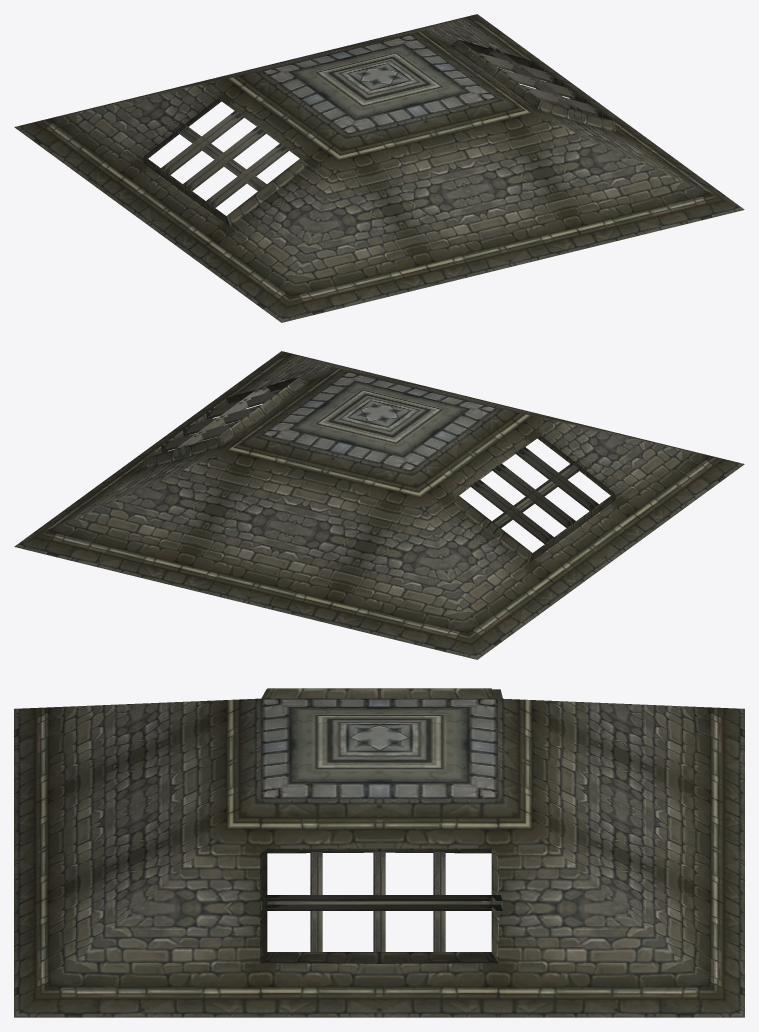
3 views of the same model, one above another, from view 1: azimuth 30°, elevation 25°; view 2: azimuth 150°, elevation 25°; view 3: azimuth 270°, elevation 25° (orthographic). The views are drawn at different scales.
Parts seen in each view (by area): view 1: DN_1_4_dt01c_a1; view 2: DN_1_4_dt01c_a1; view 3: DN_1_4_dt01c_a1.
Part boxes in pixels (<box>): DN_1_4_dt01c_a1: <box>14,14,744,322</box>; DN_1_4_dt01c_a1: <box>14,351,744,659</box>; DN_1_4_dt01c_a1: <box>14,688,744,1017</box>.
Bounding box in the file's own units: 1946 × 379 × 1946.
